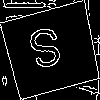S: (26, 25, 67, 79)
